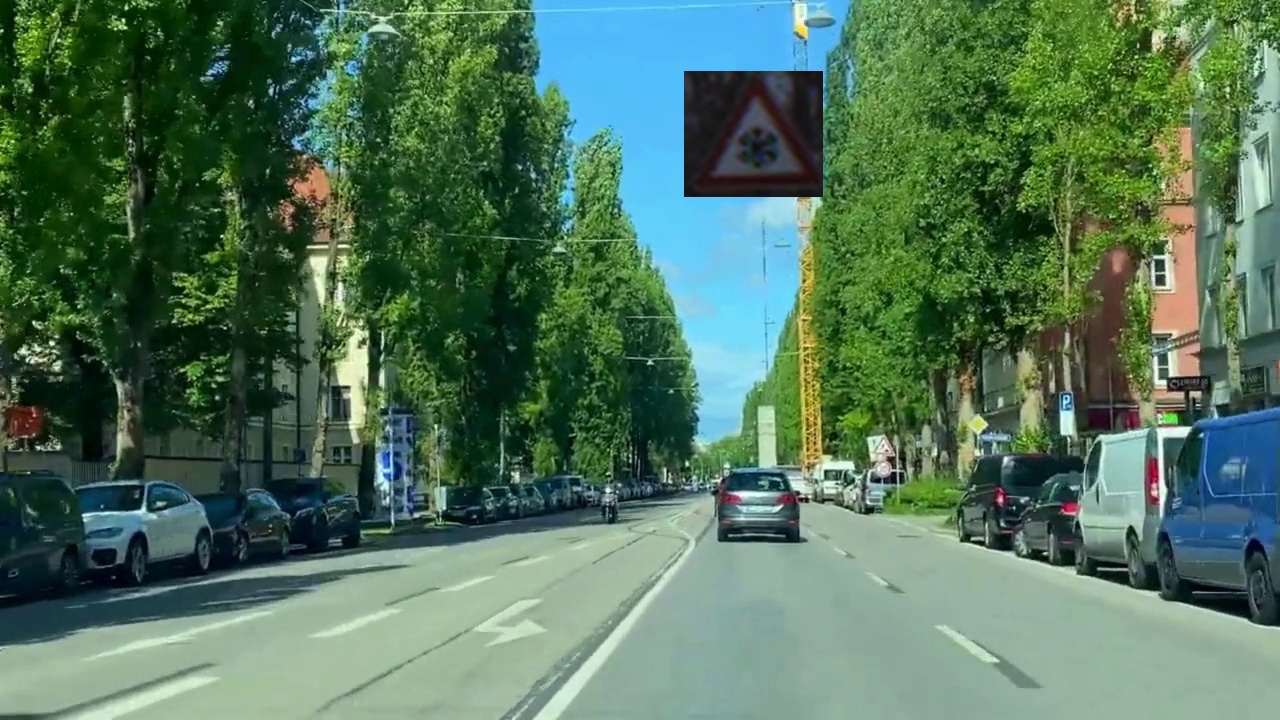Ice/snow: (684, 71, 823, 197)
